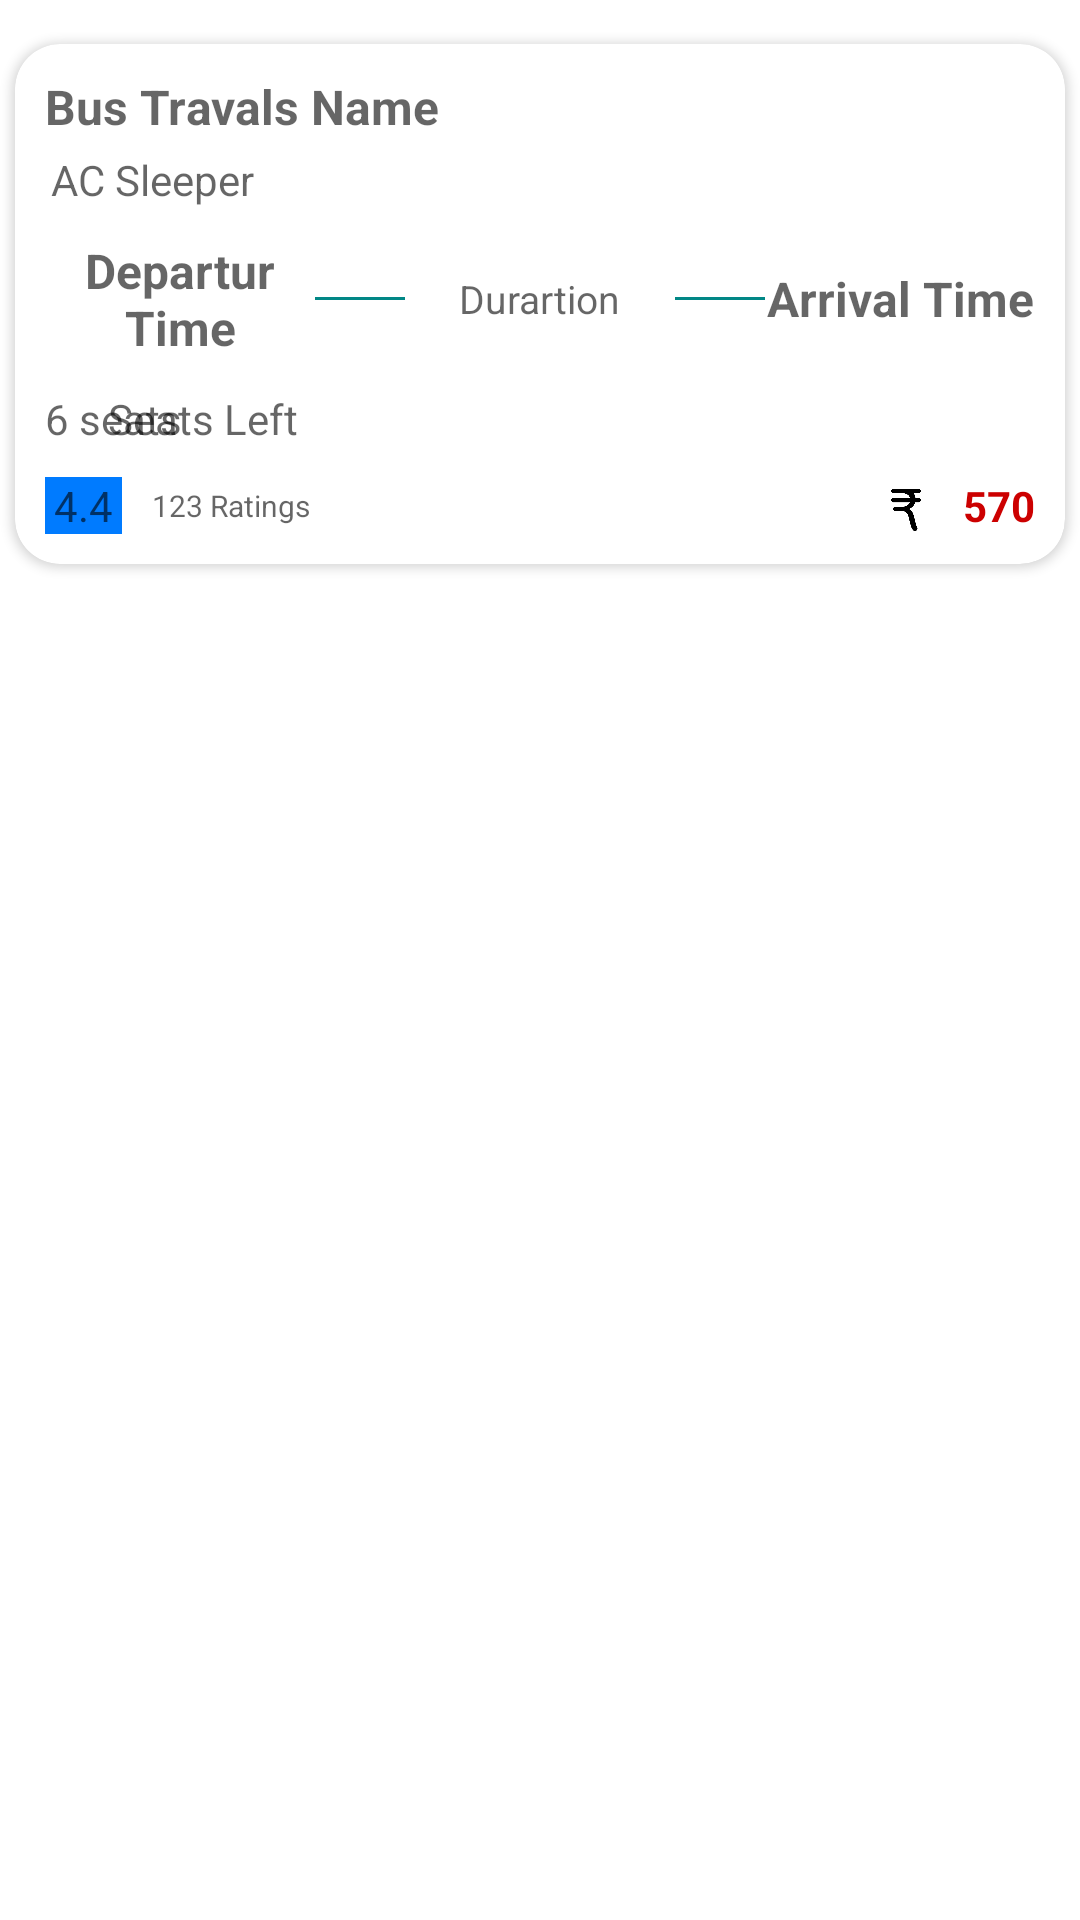

Named icons in this screenshot (1080*1920) and their bounding boxes, [left=x1, top=y1, right=x2, bottom=y2]:
rupees: [left=891, top=489, right=921, bottom=531]
